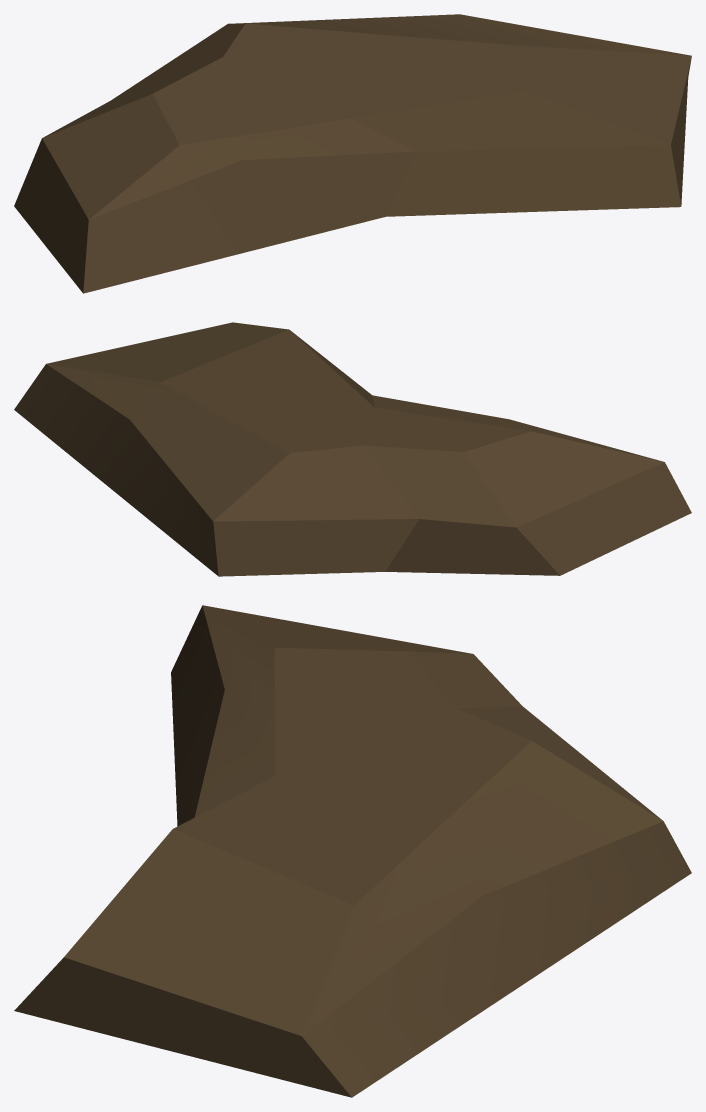
The model's file is Stone_3_Brown.fbx.
The picture shows the model from 3 angles, top to bottom: view 1: azimuth 30°, elevation 25°; view 2: azimuth 150°, elevation 25°; view 3: azimuth 270°, elevation 25°; orthographic projection. The views are drawn at different scales.
Parts seen in each view (by area): view 1: Stone_3_Brown; view 2: Stone_3_Brown; view 3: Stone_3_Brown.
Part boxes in pixels (bbox=[...]): Stone_3_Brown: bbox=[14, 14, 691, 293]; Stone_3_Brown: bbox=[14, 322, 691, 576]; Stone_3_Brown: bbox=[14, 605, 691, 1097].
Bounding box in the file's own units: 361 × 48.23 × 243.
